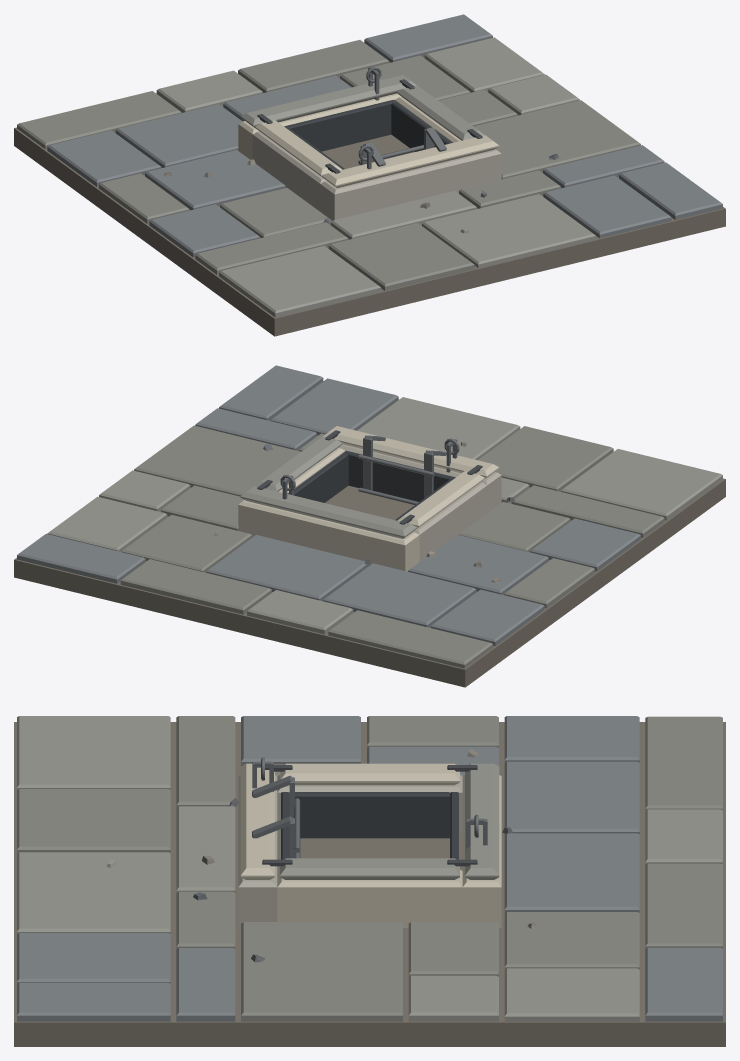
The model's file is SM_LPD_Struct_ShaftTop_01.fbx.
The picture shows the model from 3 angles, top to bottom: view 1: azimuth 30°, elevation 25°; view 2: azimuth 150°, elevation 25°; view 3: azimuth 270°, elevation 25°; orthographic projection. The views are drawn at different scales.
Parts seen in each view (by area): view 1: SM_LPD_Struct_ShaftTop_01; view 2: SM_LPD_Struct_ShaftTop_01; view 3: SM_LPD_Struct_ShaftTop_01.
Part boxes in pixels (x1,y1,x2,y2): SM_LPD_Struct_ShaftTop_01: [14, 14, 725, 336]; SM_LPD_Struct_ShaftTop_01: [14, 365, 725, 687]; SM_LPD_Struct_ShaftTop_01: [14, 716, 725, 1046].
Size of the model in its own units: 4 by 0.6794 by 4.
